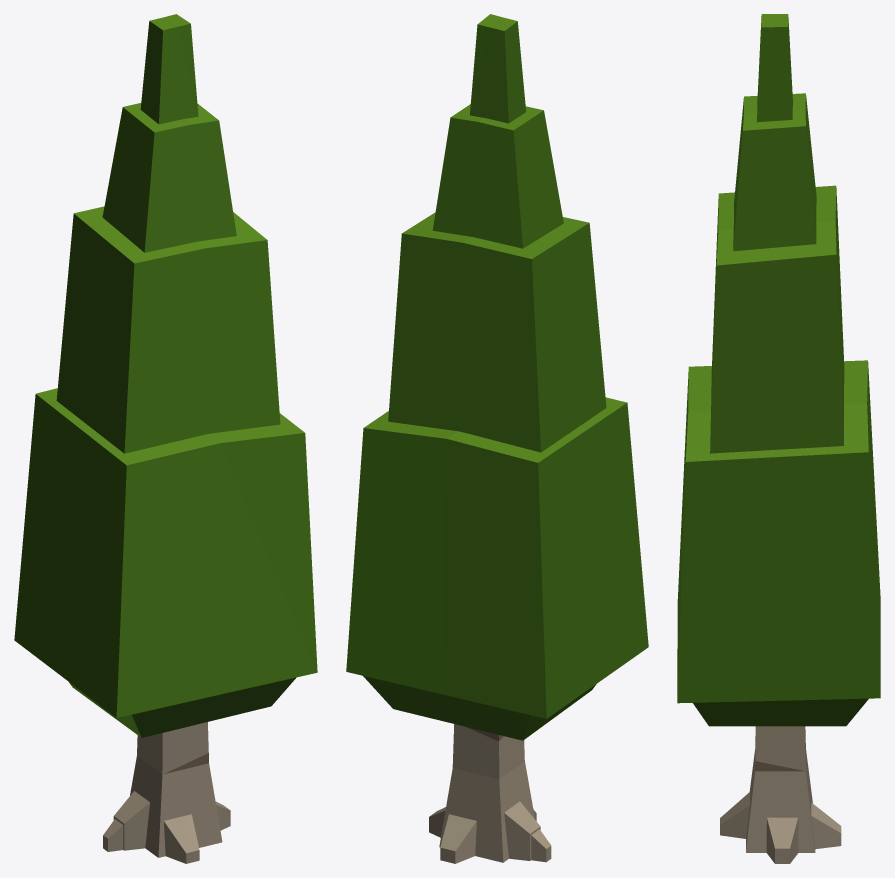
Rendered from SmallMore_SF_Prop_Tree_011.fbx.
The picture shows the model from 3 angles, left to right: view 1: azimuth 30°, elevation 25°; view 2: azimuth 150°, elevation 25°; view 3: azimuth 270°, elevation 25°; orthographic projection.
Visible parts, largest first — view 1: SF_Prop_Tree_011; view 2: SF_Prop_Tree_011; view 3: SF_Prop_Tree_011.
Part boxes in pixels (x1,y1,x2,y2): SF_Prop_Tree_011: (14,14,317,863); SF_Prop_Tree_011: (346,14,648,863); SF_Prop_Tree_011: (677,14,880,863).
Size of the model in its own units: 152 by 594 by 134.
